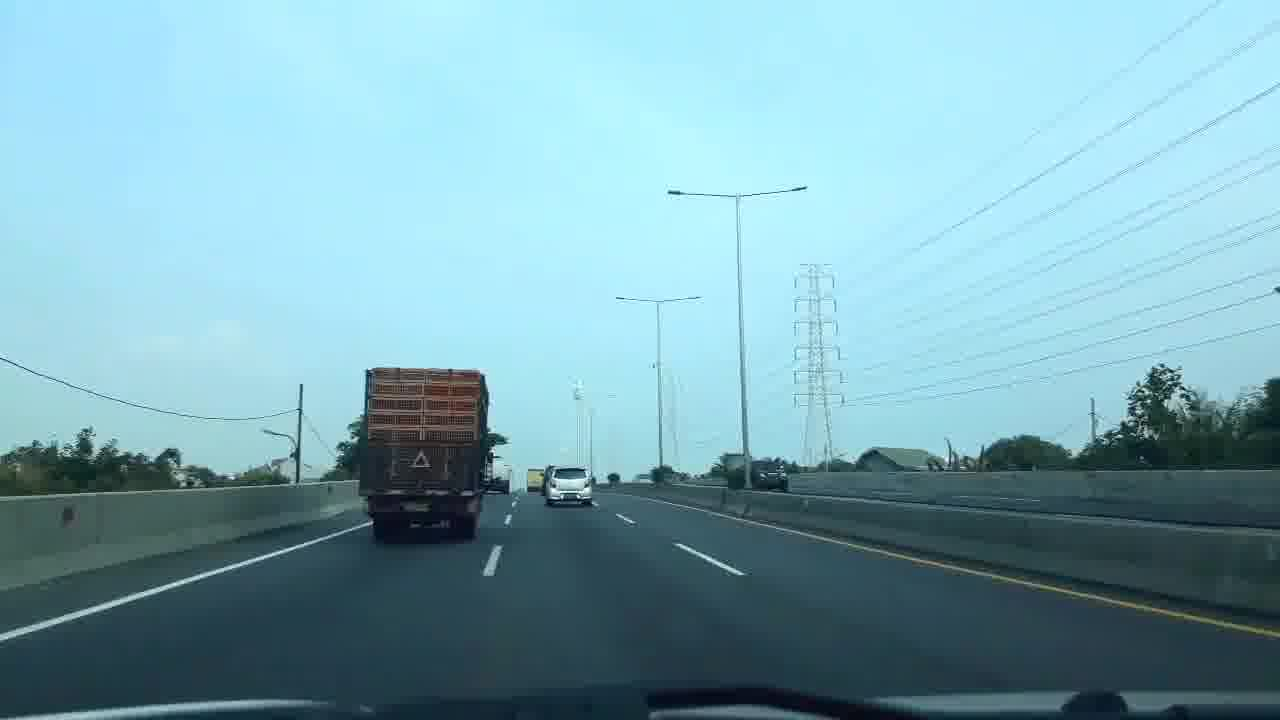plate_positive: (400, 503, 432, 512), (564, 494, 577, 499)
